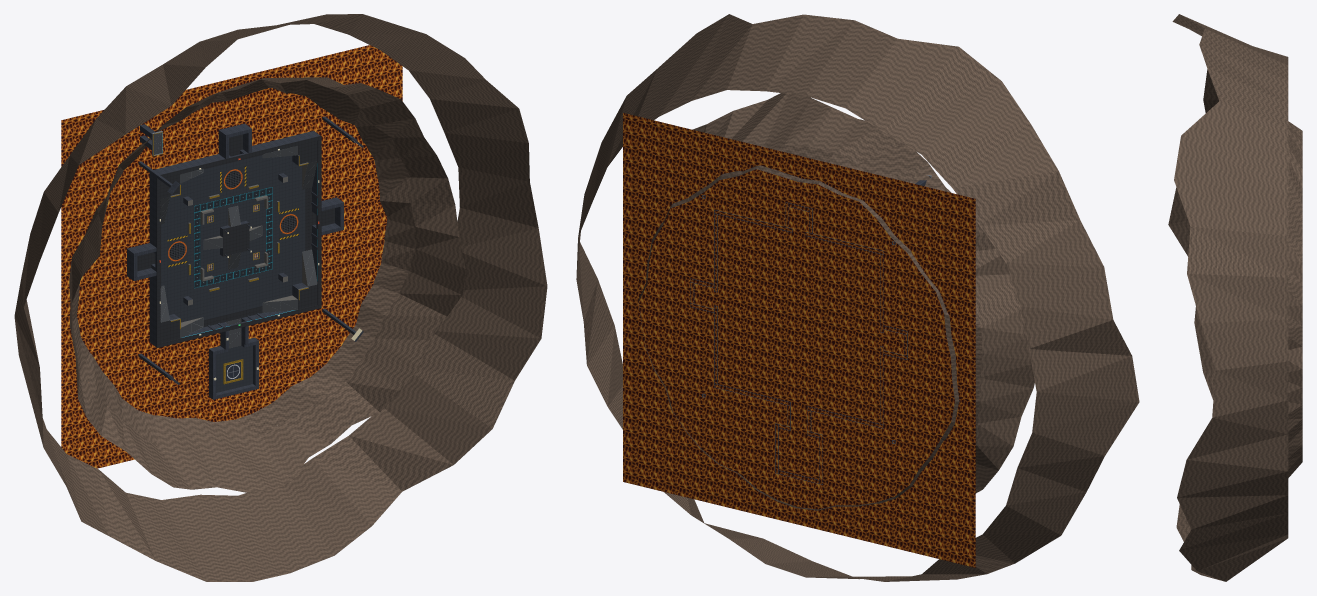
3 views of the same model, side by side, from view 1: azimuth 30°, elevation 25°; view 2: azimuth 150°, elevation 25°; view 3: azimuth 270°, elevation 25° (orthographic). The views are drawn at different scales.
Parts seen in each view (by area): view 1: mountains, lava, arena_floor, walls, towers, south_area, hub, covers, masts; view 2: lava, mountains, walls; view 3: mountains.
Boxes of the visible parts, bbox=[...] form: mountains: bbox=[14, 14, 547, 581]; lava: bbox=[61, 45, 402, 468]; arena_floor: bbox=[137, 134, 334, 326]; walls: bbox=[127, 123, 343, 347]; towers: bbox=[160, 141, 317, 342]; south_area: bbox=[209, 318, 258, 399]; hub: bbox=[203, 205, 262, 269]; covers: bbox=[183, 173, 287, 305]; masts: bbox=[138, 116, 363, 384]; lava: bbox=[623, 113, 975, 567]; mountains: bbox=[576, 14, 1139, 581]; walls: bbox=[690, 202, 907, 428]; mountains: bbox=[1168, 14, 1302, 581].
Size of the model in its own units: 316 by 317 by 75.49.
Materials: 17 (13 with a texture image).
